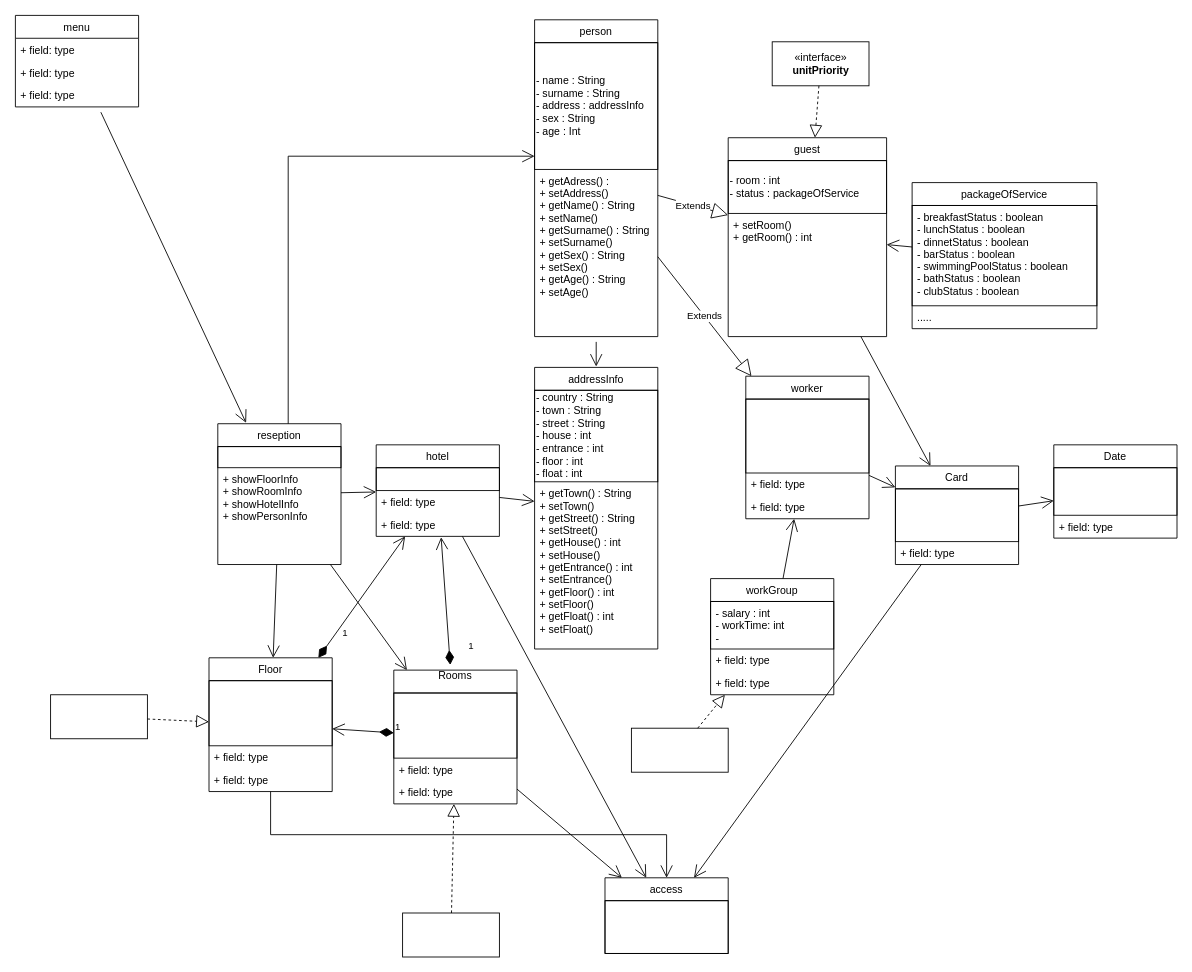
This 1192x972 diagram has some shape labels left out. The centre of each missing label's shape, as x and y in pixels:
"- accessType : access - Expire : Date" belongs at point (957, 515).
"- address : addressInfo" belongs at point (437, 479).
"- floorNum : int - floorType : ??? - accessLevel : access :" belongs at point (270, 713).
"- position :" belongs at point (807, 435).
"- roomNum - floor : Floor - accessLevel : access :" belongs at point (455, 725).
"- year : int - month : int - day : int" belongs at point (1115, 491).
"-lvl : int" belongs at point (666, 926).
"«interface» unitFloor" belongs at point (98, 716).
"«interface» unitJob" belongs at point (679, 749).
"«interface» unitRoom" belongs at point (450, 934).
